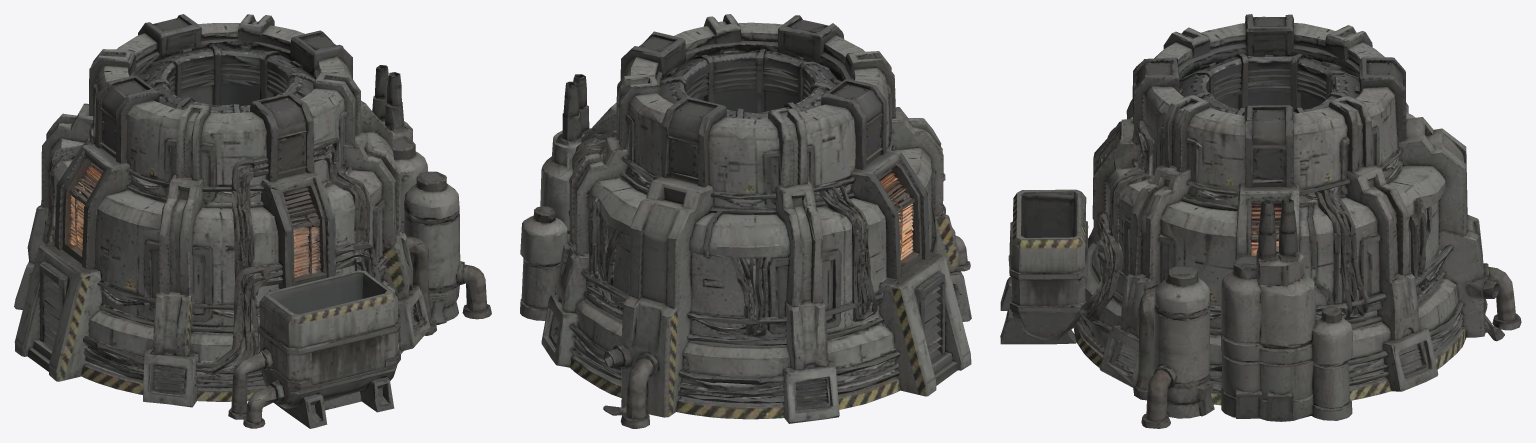
File: sink.core.l2.glb
3 renders of one model, left to right at view 1: azimuth 30°, elevation 25°; view 2: azimuth 150°, elevation 25°; view 3: azimuth 270°, elevation 25°, orthographic. The views are drawn at different scales.
Parts seen in each view (by area): view 1: body; view 2: body; view 3: body.
Part boxes in pixels (<box>): body: <box>14,14,491,428</box>; body: <box>520,14,971,428</box>; body: <box>1000,14,1521,428</box>.
Size of the model in its own units: 2.14 by 1.32 by 2.4.
Materials: 1 (1 with a texture image).
